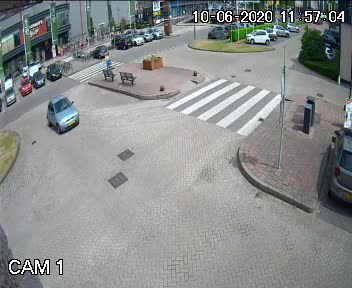car: (39, 94, 78, 130)
